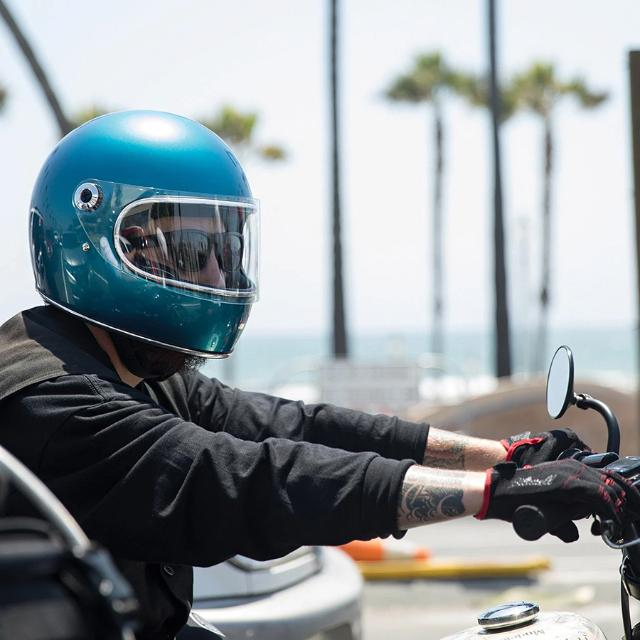helm: (24, 98, 268, 372)
